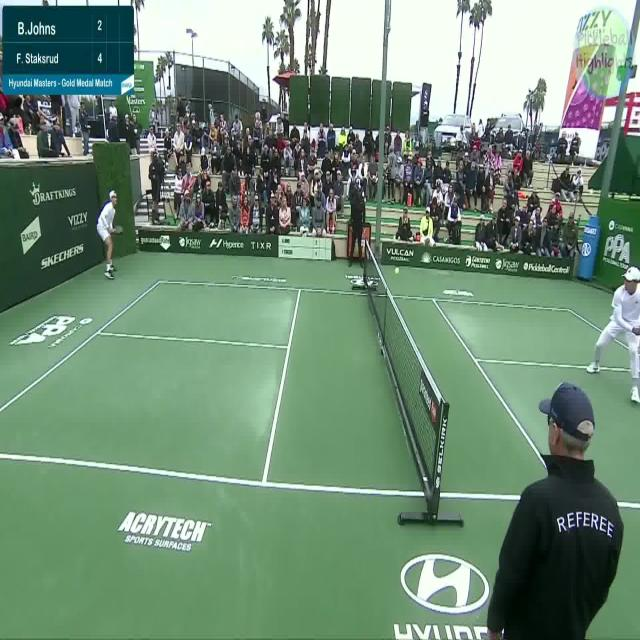ball: (394, 266, 400, 274)
